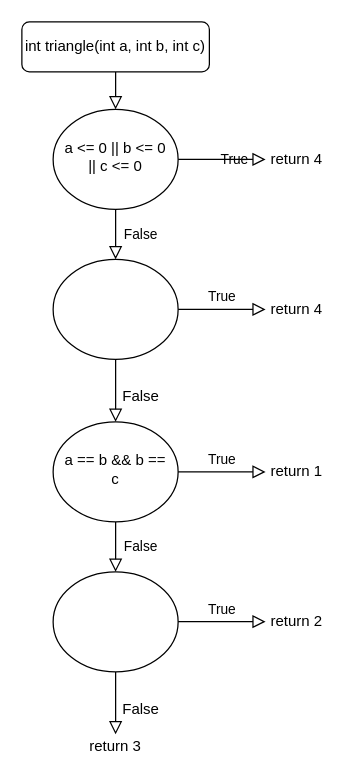
This 350x781 diagram has some shape labels left out. Each missing label, with the box of its shape:
!( a + b > c && a + c > b && b + c > a): (52, 258, 178, 359)
a == b || b == c || a == c: (52, 571, 178, 672)
